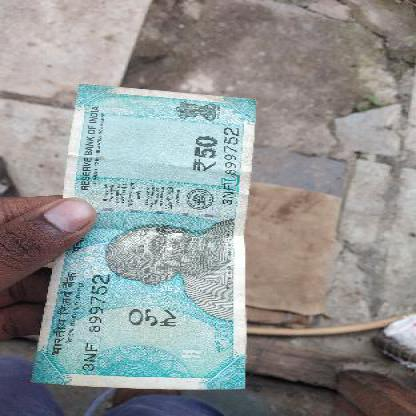New50Front: (36, 102, 253, 385)
